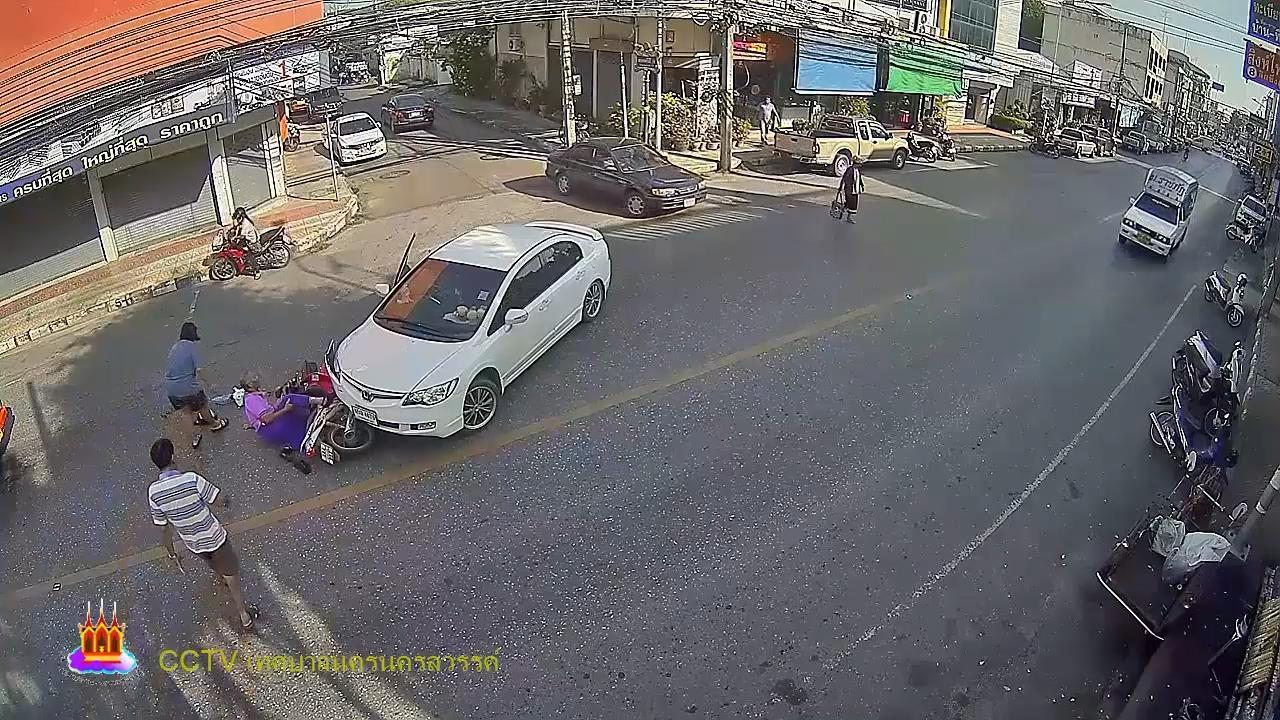accident: (230, 366, 330, 461)
